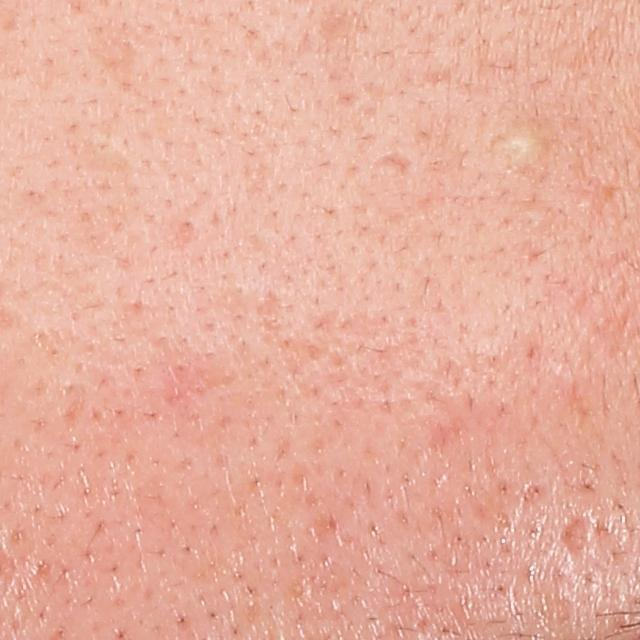atrophic_scar: (555, 511, 593, 573), (369, 148, 416, 175)
comedo: (491, 124, 549, 174)
